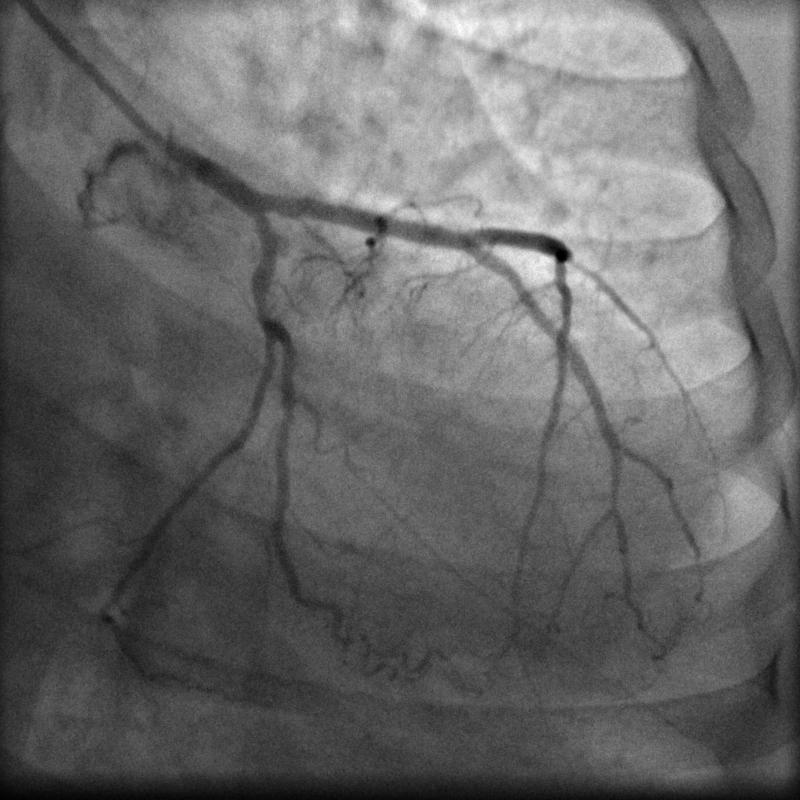Stenosis: (242, 278, 287, 330)
